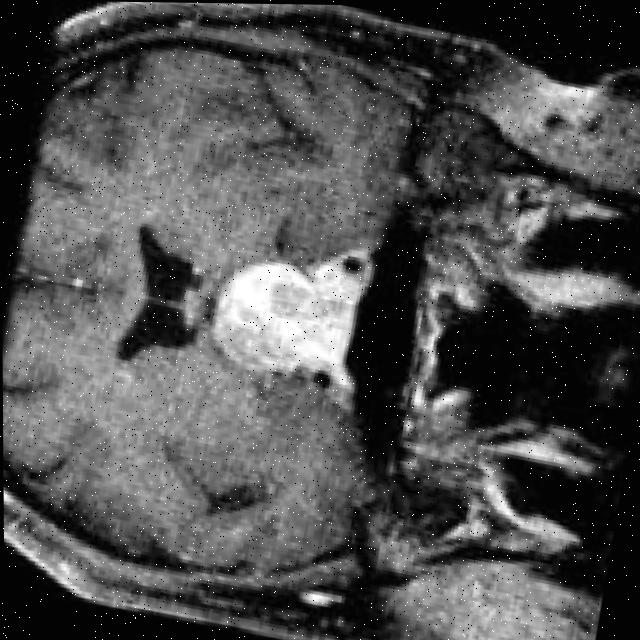Pituitary: (204, 238, 372, 392)
